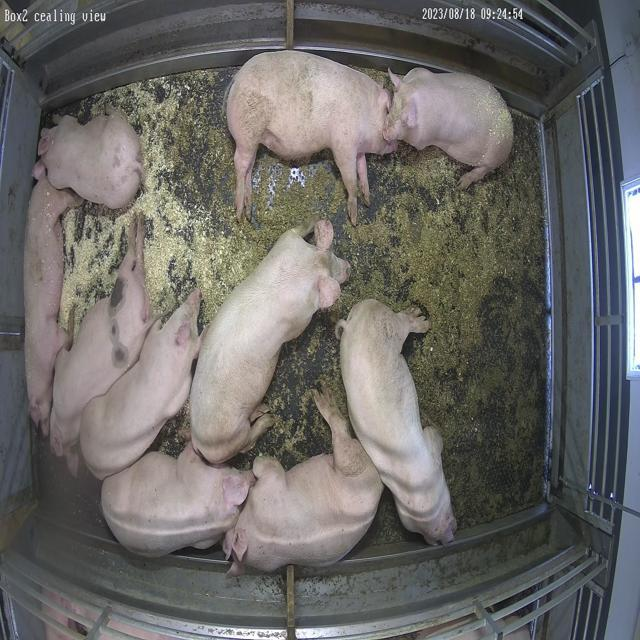Dirt: (184, 70, 547, 528)
Pig: (190, 219, 350, 464), (224, 390, 384, 576), (227, 50, 397, 224), (49, 216, 152, 474), (79, 290, 201, 480), (386, 67, 514, 188), (24, 176, 80, 436), (38, 108, 143, 208)
